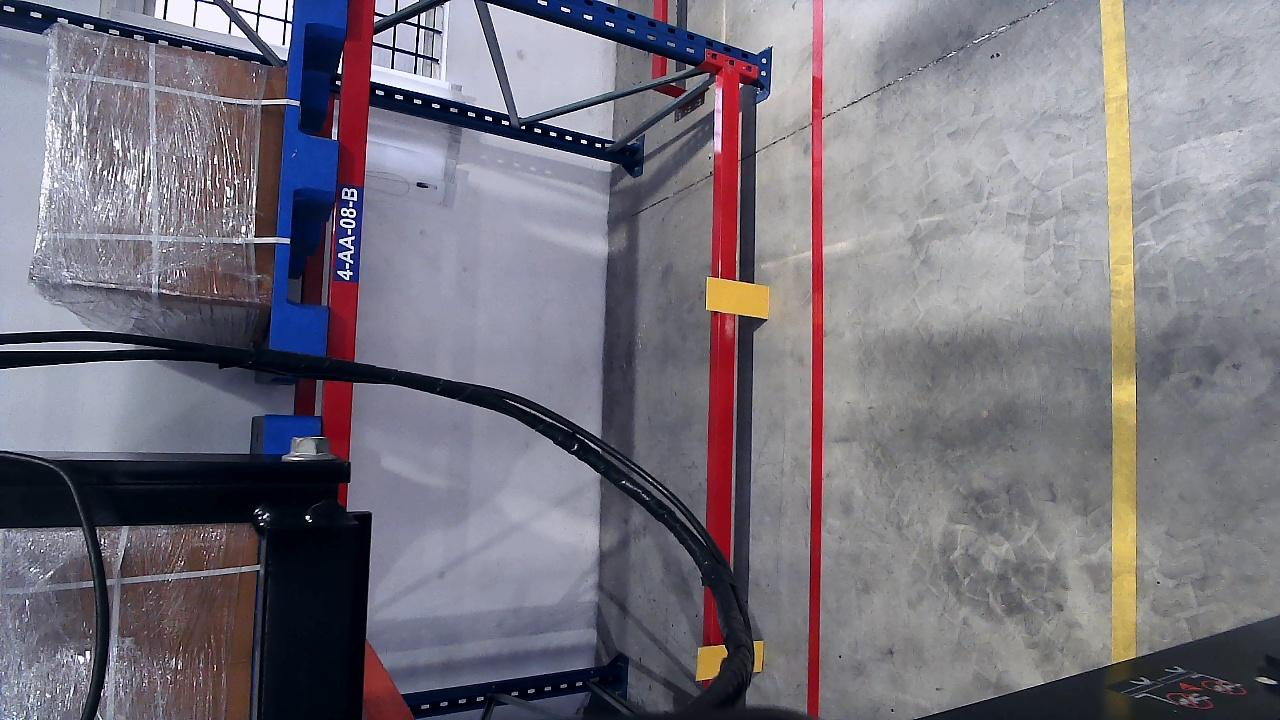h_rack: (711, 72, 746, 706), (323, 0, 380, 357)
orange_strip: (704, 277, 769, 318), (696, 645, 728, 680)
red_line: (803, 4, 828, 717)
small_pallet: (269, 2, 347, 358)
yellow_line: (1094, 1, 1136, 661)
